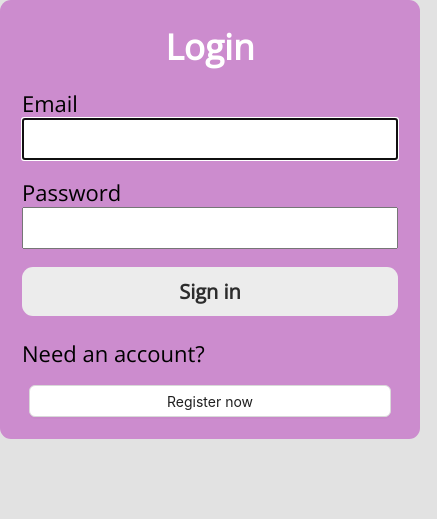
Test: Login › handles form submission with invalid email or password
Type "test@example.com" into the field labelled "Email" at (210, 139), box [22, 118, 398, 160]
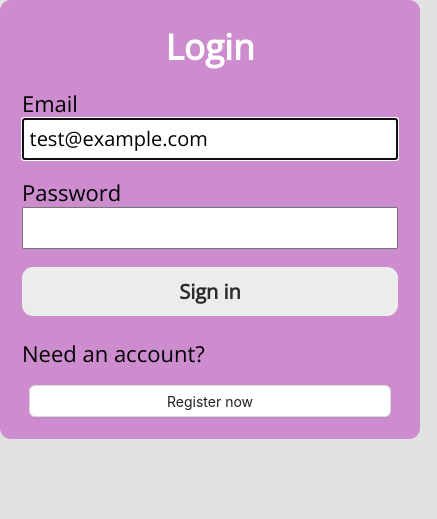
Type "password123" into the password field labelled "Password" at (210, 228), box [22, 207, 398, 249]
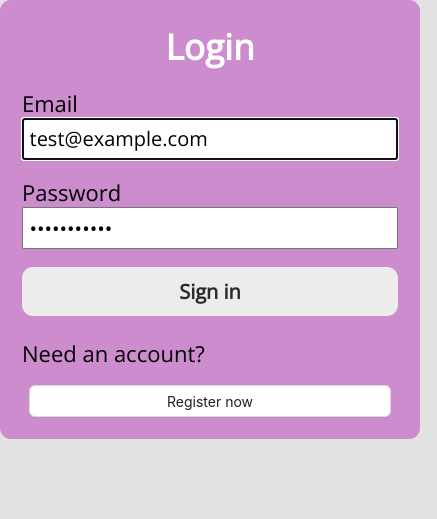
Submit the form from the button "Sign in", box [22, 267, 398, 316]
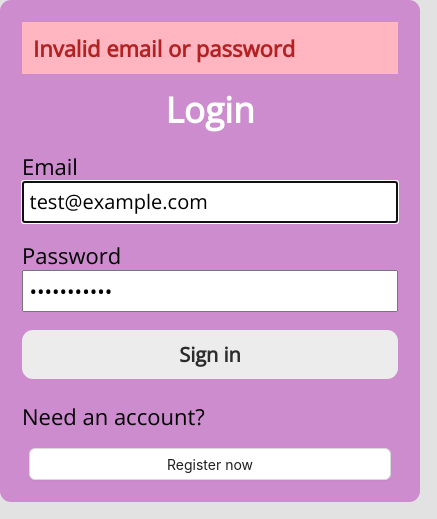
Expected: the text "Invalid email or password" is shown, [22, 22, 398, 74]
